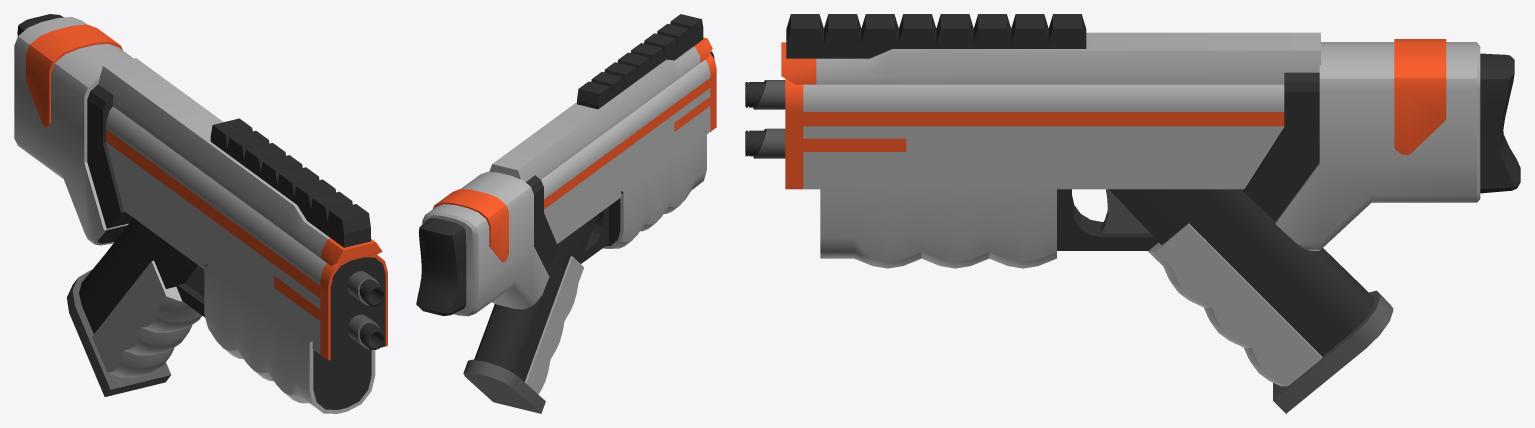
File: flare_gun.glb
The picture shows the model from 3 angles, left to right: view 1: azimuth 30°, elevation 25°; view 2: azimuth 150°, elevation 25°; view 3: azimuth 270°, elevation 25°; orthographic projection. The views are drawn at different scales.
Visible parts, largest first — view 1: Cube.133; view 2: Cube.133; view 3: Cube.133.
Boxes of the visible parts, x1,y1,x2,y2 form: Cube.133: [14, 14, 387, 413]; Cube.133: [416, 14, 716, 413]; Cube.133: [745, 14, 1520, 413].
Size of the model in its own units: 0.0426 by 0.1818 by 0.34.
